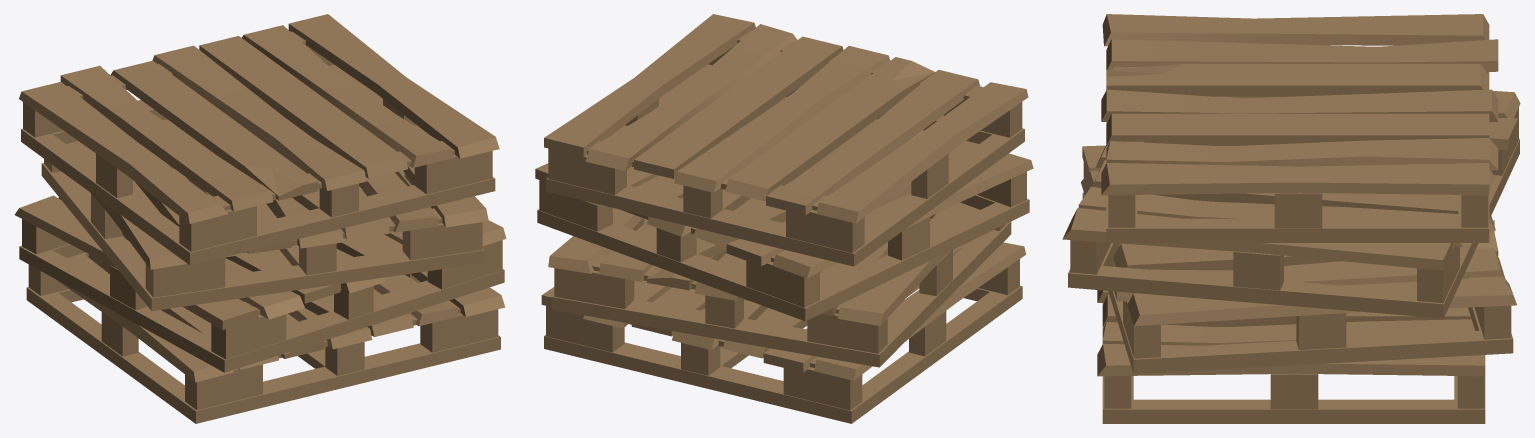
The model's file is wooden_pallet.gltf.
3 renders of one model, left to right at view 1: azimuth 30°, elevation 25°; view 2: azimuth 150°, elevation 25°; view 3: azimuth 270°, elevation 25°, orthographic. The views are drawn at different scales.
Parts seen in each view (by area): view 1: SM_Prop_PalletStack_02; view 2: SM_Prop_PalletStack_02; view 3: SM_Prop_PalletStack_02.
Part boxes in pixels (box(x1,y1,x2,y2)): SM_Prop_PalletStack_02: box(14, 14, 506, 423); SM_Prop_PalletStack_02: box(535, 14, 1033, 423); SM_Prop_PalletStack_02: box(1062, 14, 1520, 423).
Size of the model in its own units: 1.68 by 0.9388 by 1.64.
Materials: 1 (1 with a texture image).
